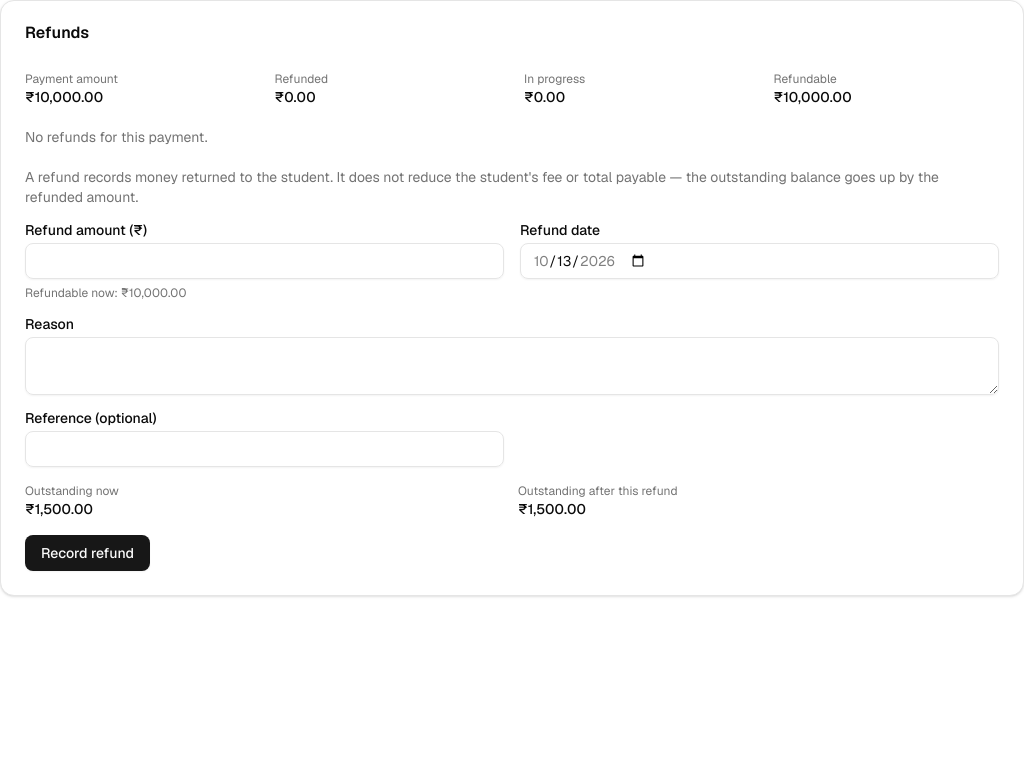
Test: PaymentRefundsCard › previews outstanding before and after the refund as the amount is typed
The width and height of the screenshot is (1024, 768).
Type "2000.50" into the field labelled "Refund amount (₹)".
click(264, 261); type("2000.50")  # box top-left (25, 243), bottom-right (504, 279)
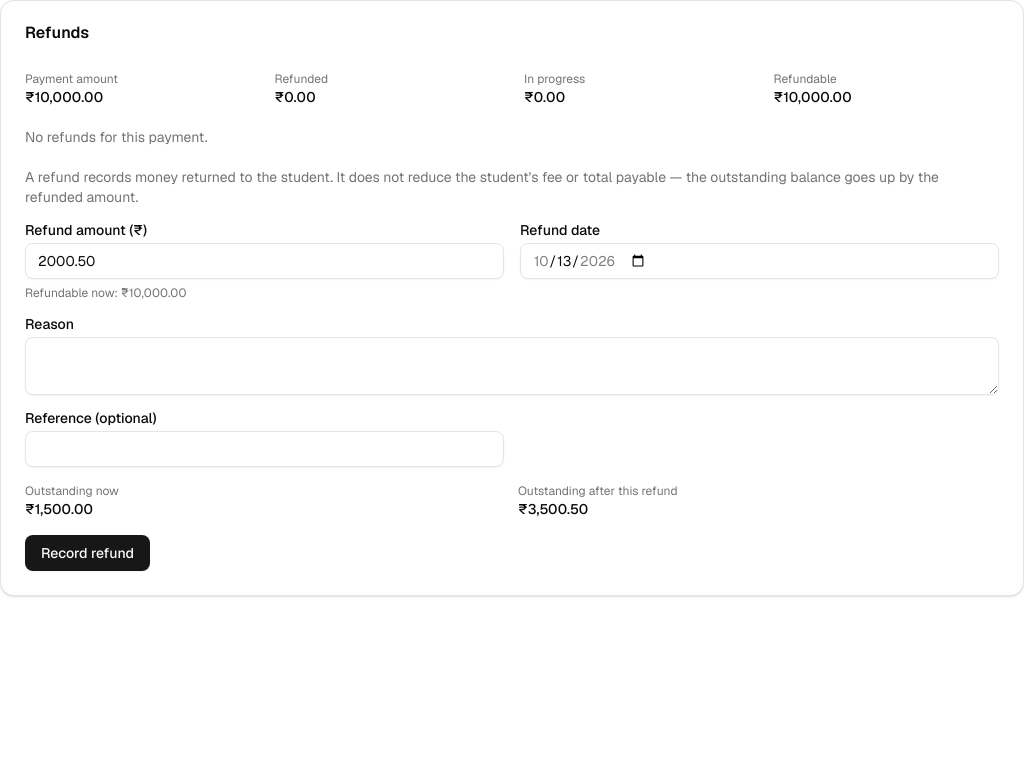
Expected: the text "₹1,500.00" is shown, top-left (25, 500), bottom-right (93, 518)
Now the text "₹3,500.50" is shown, box top-left (518, 500), bottom-right (588, 518)
